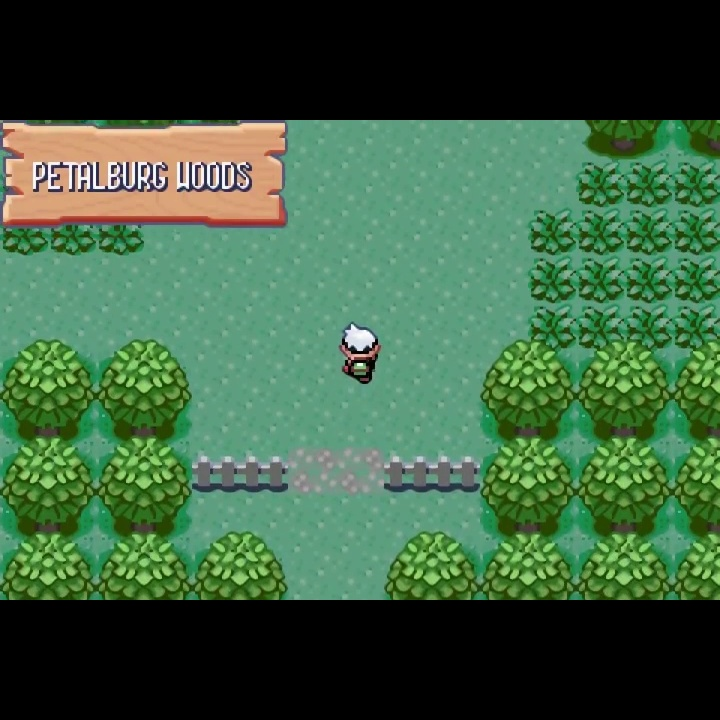grass: (527, 207, 577, 258), (576, 207, 625, 258), (625, 254, 673, 306), (624, 159, 673, 209), (672, 253, 720, 303), (577, 256, 626, 304), (577, 160, 625, 209), (672, 158, 720, 207), (529, 256, 577, 304), (624, 208, 673, 255), (626, 303, 674, 349), (672, 208, 720, 254), (578, 303, 625, 349), (529, 303, 577, 348), (675, 301, 720, 349), (1, 223, 50, 256), (97, 223, 146, 255), (49, 223, 98, 254)
npc: (333, 320, 383, 388)
wall: (479, 340, 577, 441), (96, 435, 193, 534), (482, 438, 577, 539), (577, 341, 673, 440), (1, 339, 97, 438), (578, 441, 674, 539), (98, 338, 194, 436), (1, 437, 95, 536), (1, 533, 99, 601), (383, 533, 481, 600), (193, 531, 288, 600), (99, 533, 193, 599), (481, 538, 576, 600), (578, 539, 674, 600), (674, 441, 720, 539), (675, 343, 720, 441), (583, 120, 672, 158), (674, 539, 720, 600), (675, 119, 720, 160)
